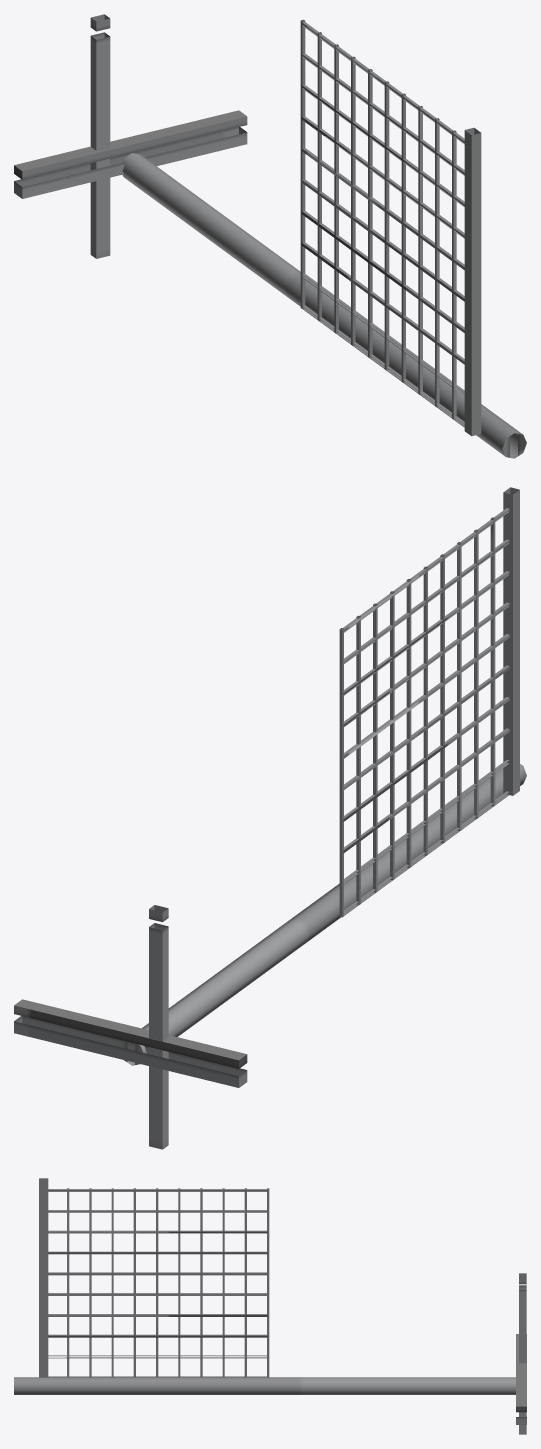
3 views of the same model, one above another, from view 1: azimuth 30°, elevation 25°; view 2: azimuth 150°, elevation 25°; view 3: azimuth 270°, elevation 25° (orthographic). The views are drawn at different scales.
Bounding box in the file's own units: 0.696 × 1.14 × 2.08.
